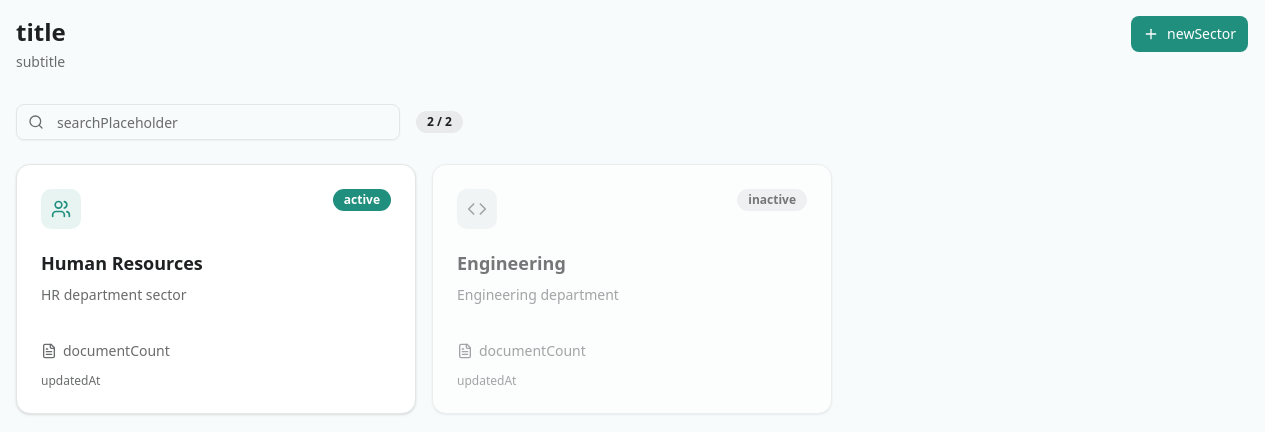
SectorsView › should show empty state when no results
Type "nonexistent" into the field with placeholder "searchPlaceholder" at (208, 122), box [16, 104, 400, 140]
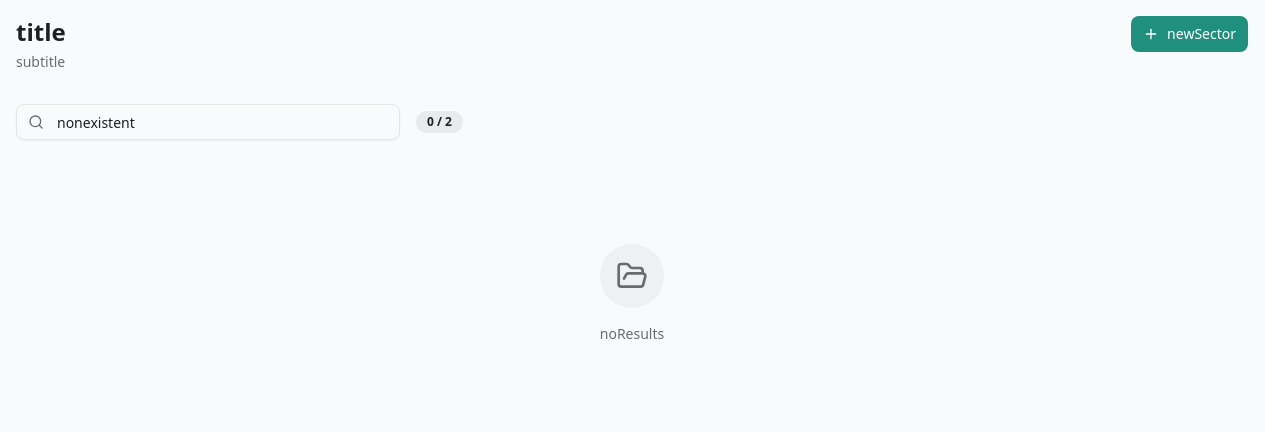
Check: the text "noResults" is shown, box [600, 324, 664, 344]
